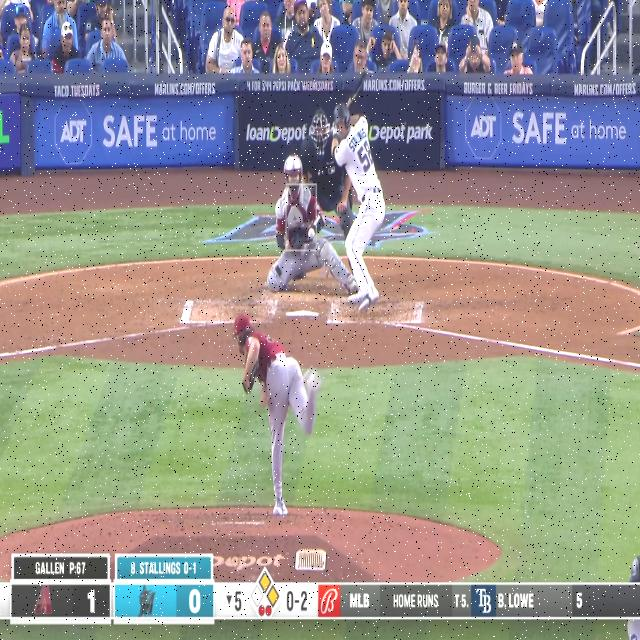baseball: (307, 226, 316, 241)
